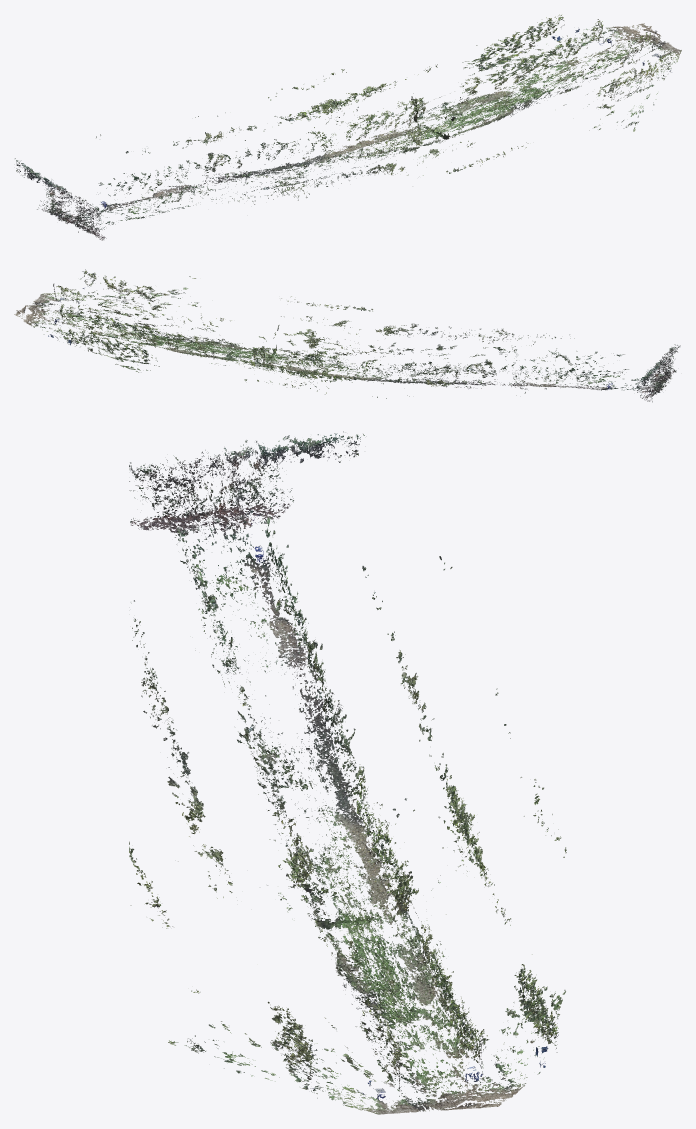
3 renders of one model, top to bottom at view 1: azimuth 30°, elevation 25°; view 2: azimuth 150°, elevation 25°; view 3: azimuth 270°, elevation 25°, orthographic. The views are drawn at different scales.
Visible parts, largest first — view 1: vineyard_decimated; view 2: vineyard_decimated; view 3: vineyard_decimated.
Part boxes in pixels (<box>): vineyard_decimated: <box>15,14,681,240</box>; vineyard_decimated: <box>14,269,680,402</box>; vineyard_decimated: <box>129,431,566,1114</box>.
Size of the model in its own units: 57.71 by 6.44 by 18.51.
